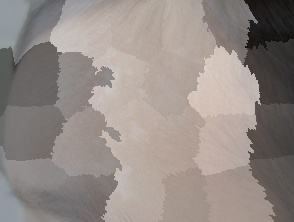vitiligo: (51, 19, 223, 222)
